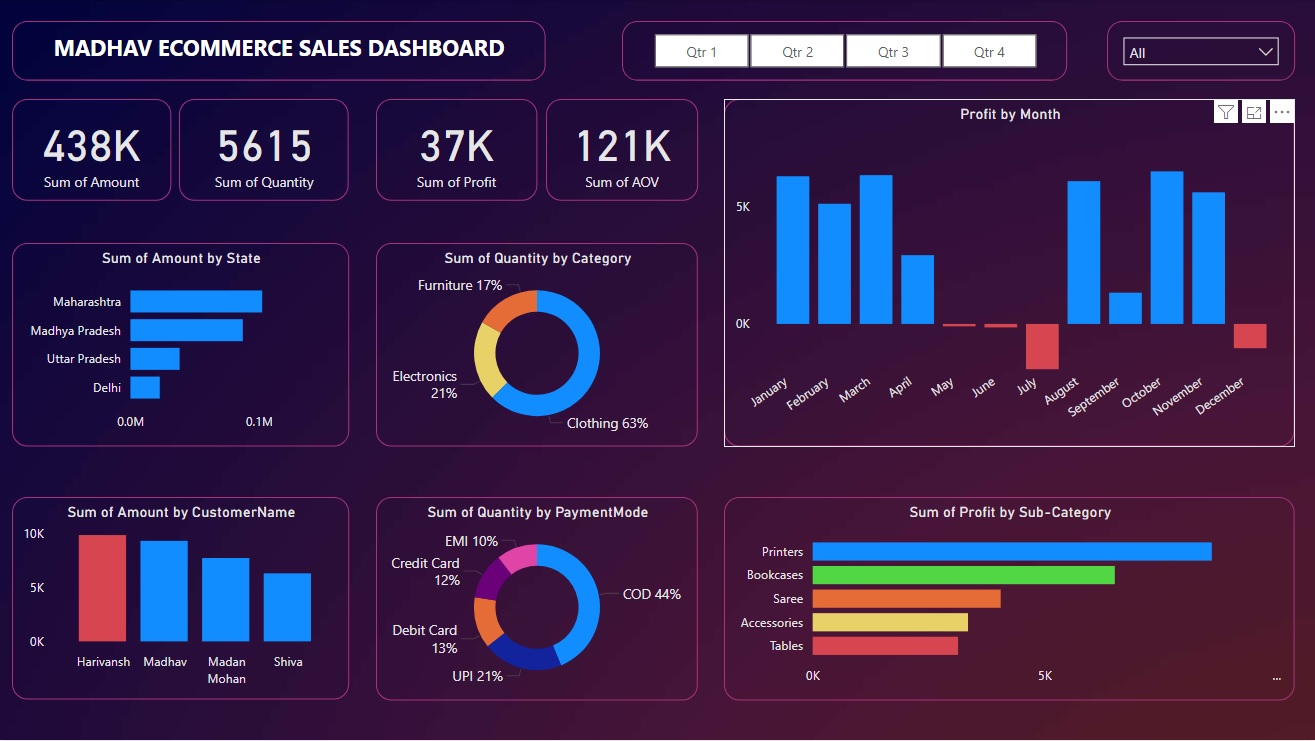

The dashboard page shown, as its layout file describes it:
{"tool":"powerbi","page":{"name":"Page 1","canvas":[1280,720],"ordinal":0},"visuals":[{"type":"textbox","box":[12.6,20.4,519.4,58.4],"z":0},{"type":"columnChart","title":"Profit by Month","fields":{"Category":["Orders.Order Date.Variation.Date Hierarchy.Month"],"Y":["Details.Profit"]},"box":[705.2,96.3,555.4,338.5],"z":1000},{"type":"barChart","fields":{"Category":["Details.Sub-Category"],"Y":["Details.Profit"]},"box":[705.2,483.4,555.4,198.4],"z":2000},{"type":"donutChart","fields":{"Category":["Details.Category"],"Y":["Details.Quantity"]},"box":[366.7,236.4,313.2,198.4],"z":3000},{"type":"donutChart","fields":{"Y":["Details.Quantity"],"Category":["Details.PaymentMode"]},"box":[366.7,483.4,313.2,198.4],"z":4000},{"type":"card","fields":{"Values":["Details.Amount"]},"box":[12.6,96.3,154.7,99.2],"z":4001},{"type":"card","fields":{"Values":["Details.Quantity"]},"box":[175.1,96.3,165.3,99.2],"z":4002},{"type":"card","fields":{"Values":["Details.Profit"]},"box":[366.7,96.3,156.6,99.2],"z":4003},{"type":"card","fields":{"Values":["Details.AOV"]},"box":[532,96.3,147.8,99.2],"z":4004},{"type":"barChart","fields":{"Category":["Orders.State"],"Y":["Details.Amount"]},"box":[12.6,236.4,327.8,198.4],"z":4005},{"type":"columnChart","fields":{"Category":["Orders.CustomerName"],"Y":["Details.Amount"]},"box":[12.6,483.4,327.8,197.4],"z":4006},{"type":"slicer","fields":{"Values":["Orders.Order Date.Variation.Date Hierarchy.Quarter"]},"box":[606,20.4,432.8,58.4],"z":4007},{"type":"slicer","fields":{"Values":["Orders.State"]},"box":[1077.7,20.4,182.9,58.4],"z":4008}]}

Visuals, with their boxes in screenshot pixels (x1, y1, x2, y2), scaled from the page's 1280x720 canvas onto the 1315x741 screenshot:
textbox: <region>13, 21, 547, 81</region>
"Profit by Month" columnChart: <region>724, 99, 1295, 447</region>
barChart - Details.Sub-Category x Details.Profit: <region>724, 497, 1295, 702</region>
donutChart - Details.Category x Details.Quantity: <region>377, 243, 698, 447</region>
donutChart - Details.Quantity x Details.PaymentMode: <region>377, 497, 698, 702</region>
card - Details.Amount: <region>13, 99, 172, 201</region>
card - Details.Quantity: <region>180, 99, 350, 201</region>
card - Details.Profit: <region>377, 99, 538, 201</region>
card - Details.AOV: <region>547, 99, 698, 201</region>
barChart - Orders.State x Details.Amount: <region>13, 243, 350, 447</region>
columnChart - Orders.CustomerName x Details.Amount: <region>13, 497, 350, 701</region>
slicer - Orders.Order Date.Variation.Date Hierarchy.Quarter: <region>623, 21, 1067, 81</region>
slicer - Orders.State: <region>1107, 21, 1295, 81</region>
